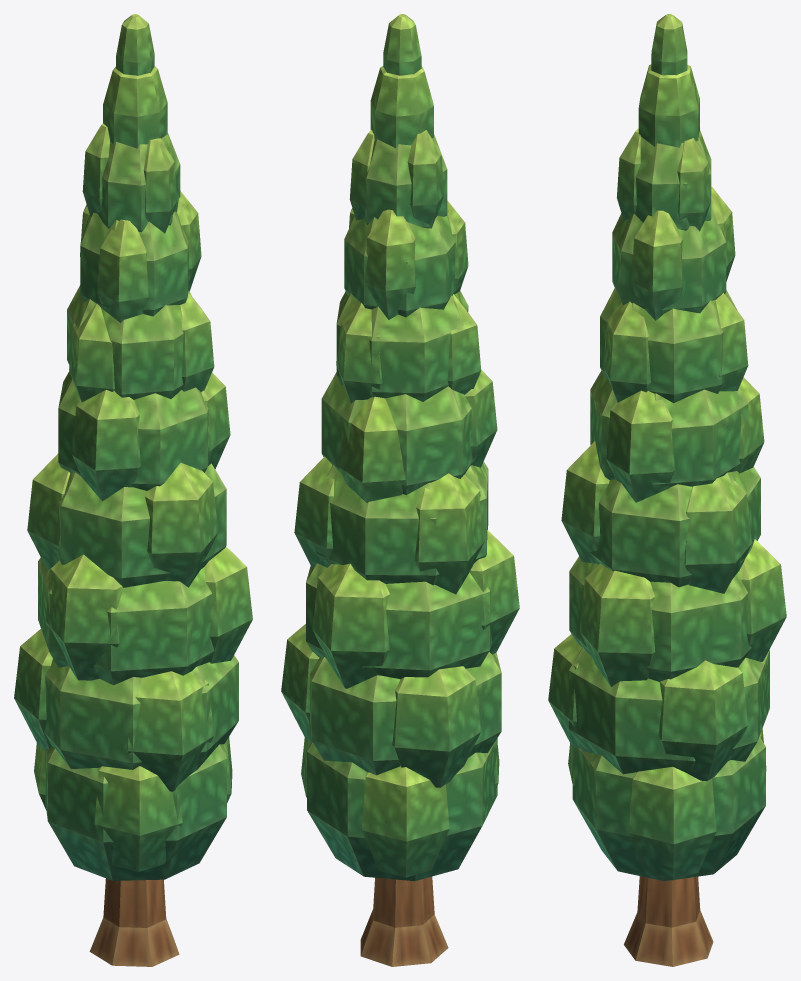
File: cypress_in.glb
3 renders of one model, left to right at view 1: azimuth 30°, elevation 25°; view 2: azimuth 150°, elevation 25°; view 3: azimuth 270°, elevation 25°, orthographic.
Parts seen in each view (by area): view 1: foliage_v3; view 2: foliage_v3; view 3: foliage_v3.
Boxes of the visible parts, bbox=[...] form: foliage_v3: bbox=[14, 14, 252, 966]; foliage_v3: bbox=[281, 14, 519, 966]; foliage_v3: bbox=[548, 14, 786, 966].
Bounding box in the file's own units: 7.26 × 33.4 × 7.75.
Materials: 1 (1 with a texture image).
